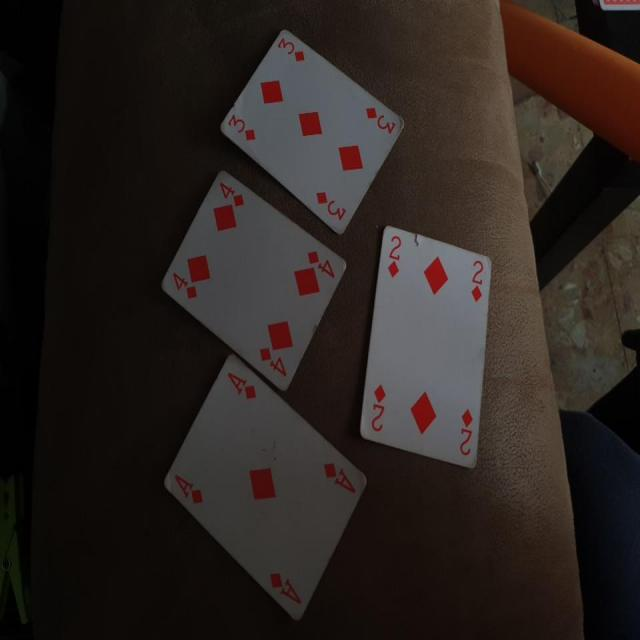2 Diamonds: (355, 217, 494, 466)
3 Diamonds: (219, 28, 407, 238)
4 Diamonds: (161, 170, 348, 394)
A Diamonds: (158, 350, 368, 625)
